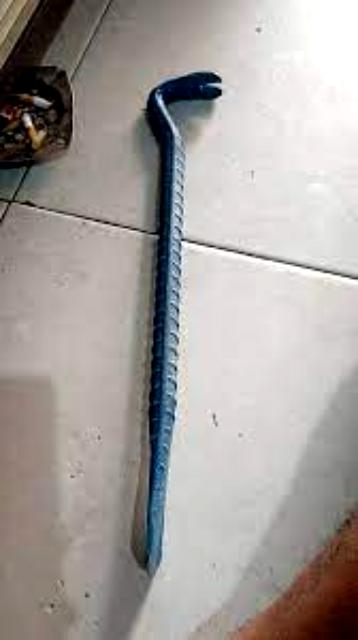crow bar: (116, 57, 222, 580)
